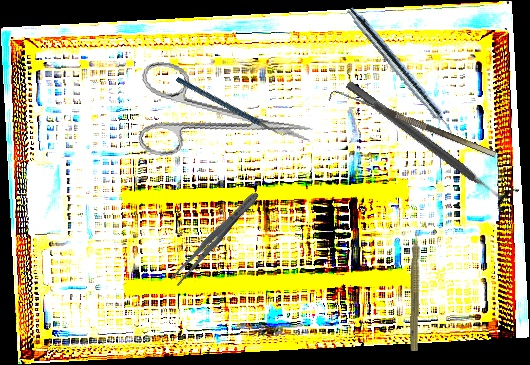Chopper: (175, 45, 293, 167)
Dressing Forceps: (168, 188, 263, 288)
Fixation Ring: (339, 70, 520, 215)
Handpiece: (342, 4, 463, 144), (407, 223, 426, 352)
Hook Surgical: (328, 86, 497, 166)
Iris Scissors: (127, 58, 321, 184)
